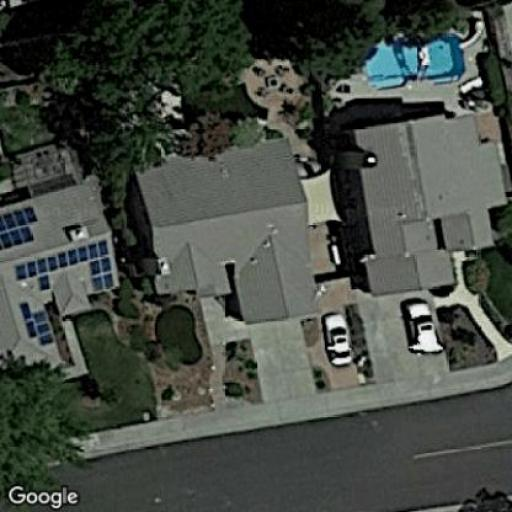solar-panel: (14, 237, 115, 293), (0, 204, 42, 251), (17, 300, 52, 348)
